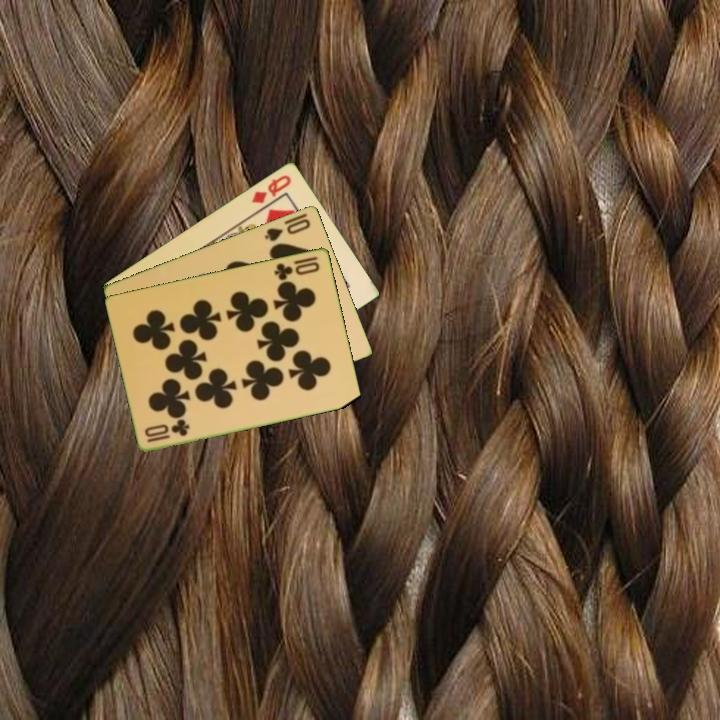10c: (271, 253, 323, 283), (141, 417, 193, 445)
10s: (261, 215, 314, 244)
Qd: (248, 171, 294, 206)
